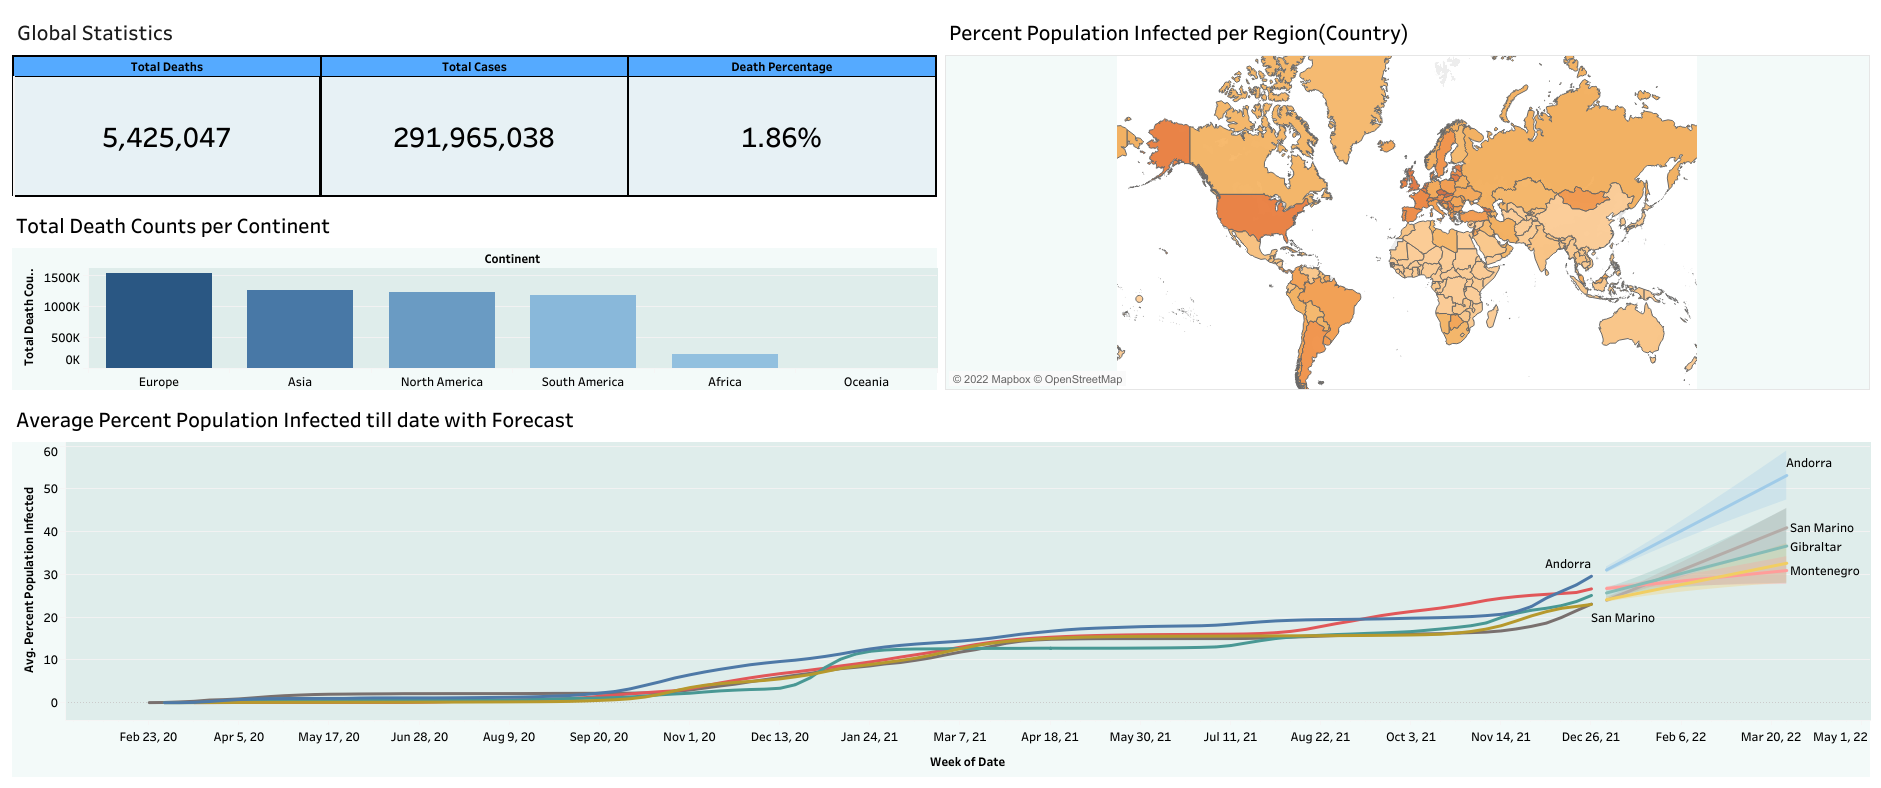

This screenshot's page, from the dashboard's own definition file:
{"tool":"tableau","page":{"name":"COVID STATS","canvas":[1000,1000],"units":"permille","ordinal":0},"visuals":[{"type":"worksheet","title":"Global Stats","mark":"Automatic","box":[4.7,8.8,495.3,245.6]},{"type":"worksheet","title":"Perc Population Infected","mark":"Automatic","box":[500,8.8,495.3,491.2]},{"type":"worksheet","title":"Total Death Count","mark":"Automatic","rows":["TotalDeathCount"],"cols":["location"],"box":[4.7,254.4,495.3,245.6]},{"type":"worksheet","title":"Average Population Infected Forecast","mark":"Automatic","rows":["PercentPopulationInfected"],"cols":["date"],"box":[4.7,500,990.6,491.2]}]}

Visuals, with their boxes on the dashboard's canvas, which has no fixed pixel size, in thousandths of its width and height (x1, y1, x2, y2). These are canvas units, not pixel positions in the 1881x788 screenshot, which may show the page scaled, cropped or inside an application window:
"Global Stats" worksheet: box=[5, 9, 500, 254]
"Perc Population Infected" worksheet: box=[500, 9, 995, 500]
"Total Death Count" worksheet: box=[5, 254, 500, 500]
"Average Population Infected Forecast" worksheet: box=[5, 500, 995, 991]
